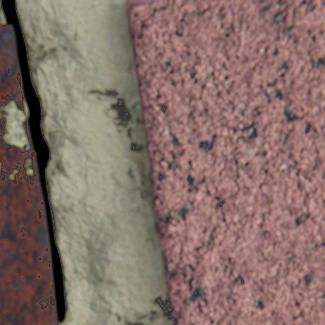brick: (126, 0, 324, 324), (0, 26, 58, 324)
crack: (0, 0, 65, 322)
